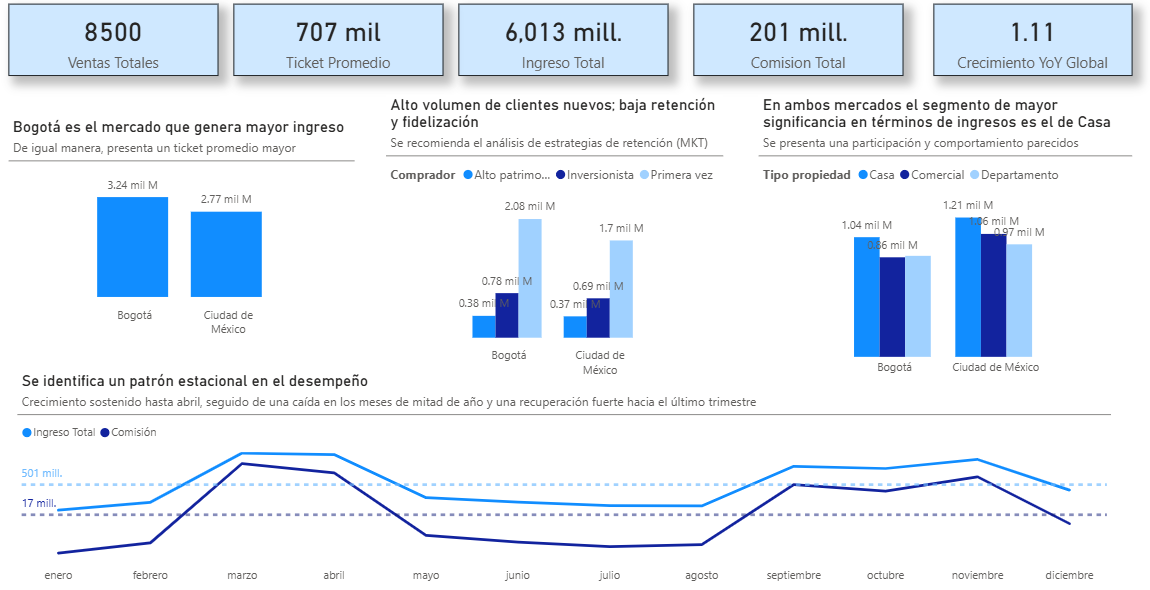

This screenshot's page, from the dashboard's own definition file:
{"tool":"powerbi","page":{"name":"Overview Ejecutivo","canvas":[1280,720],"ordinal":0},"visuals":[{"type":"card","fields":{"Values":["hecho_ventas_propiedades.Ingreso Total"]},"box":[513.2,75.5,230.5,79.6],"z":0},{"type":"card","fields":{"Values":["hecho_ventas_propiedades.Cantidad de Ventas"]},"box":[19.2,75.5,230.5,79.6],"z":1000},{"type":"card","fields":{"Values":["hecho_ventas_propiedades.Ticket Promedio"]},"box":[266.2,75.5,230.5,79.6],"z":2000},{"type":"card","fields":{"Values":["hecho_ventas_propiedades.Comision Total"]},"box":[771.2,75.5,230.5,79.6],"z":3000},{"type":"lineChart","title":"Se identifica un patrón estacional en el desempeño","fields":{"Y":["hecho_ventas_propiedades.Ingreso Total"],"Category":["dim_fecha.Date.Variación.Jerarquía de fechas.Mes"],"Y2":["Sum(hecho_ventas_propiedades.monto_comision)"]},"box":[28.8,478.9,1200.7,241.5],"z":4000},{"type":"clusteredColumnChart","title":"En ambos mercados el segmento de mayor significancia en términos de ingresos es el de Casa","fields":{"Category":["dim_propiedades.ciudad"],"Y":["hecho_ventas_propiedades.Ingreso Total"],"Series":["dim_propiedades.tipo_propiedad"]},"box":[842.5,175.6,410.3,317],"z":5000},{"type":"slicer","fields":{"Values":["dim_fecha.Año"]},"box":[872.7,1.4,101.5,65.9],"z":6000},{"type":"card","fields":{"Values":["hecho_ventas_propiedades.Crecimiento YoY Global"]},"box":[1034.7,75.5,218.2,79.6],"z":7000},{"type":"clusteredColumnChart","title":"Alto volumen de clientes nuevos; baja retención y fidelización","fields":{"Y":["hecho_ventas_propiedades.Ingreso Total"],"Category":["dim_clientes.ciudad"],"Series":["dim_clientes.segmento_comprador"]},"box":[433.6,175.6,370.5,317],"z":8000},{"type":"clusteredColumnChart","title":"Bogotá es el mercado que genera mayor ingreso","fields":{"Y":["hecho_ventas_propiedades.Ingreso Total"],"Category":["dim_clientes.ciudad"]},"box":[19.2,200.3,380.1,247],"z":9000},{"type":"textbox","box":[38.4,9.6,824.7,49.4],"z":10000},{"type":"slicer","fields":{"Values":["dim_clientes.Ciudad"]},"box":[986.6,1.4,141.3,65.9],"z":11000},{"type":"slicer","fields":{"Values":["dim_propiedades.Tipo propiedad"]},"box":[1138.9,1.4,141.3,65.9],"z":12000}]}

Visuals, with their boxes on the page's 1280x720 design canvas (x1, y1, x2, y2). These are canvas units, not pixel positions in the 1150x590 screenshot, which may show the page scaled, cropped or inside an application window:
card - hecho_ventas_propiedades.Ingreso Total: box(513, 76, 744, 155)
card - hecho_ventas_propiedades.Cantidad de Ventas: box(19, 76, 250, 155)
card - hecho_ventas_propiedades.Ticket Promedio: box(266, 76, 497, 155)
card - hecho_ventas_propiedades.Comision Total: box(771, 76, 1002, 155)
"Se identifica un patrón estacional en el desempeño" lineChart: box(29, 479, 1230, 720)
"En ambos mercados el segmento de mayor significancia en términos de ingresos es el de Casa" clusteredColumnChart: box(842, 176, 1253, 493)
slicer - dim_fecha.Año: box(873, 1, 974, 67)
card - hecho_ventas_propiedades.Crecimiento YoY Global: box(1035, 76, 1253, 155)
"Alto volumen de clientes nuevos; baja retención y fidelización" clusteredColumnChart: box(434, 176, 804, 493)
"Bogotá es el mercado que genera mayor ingreso" clusteredColumnChart: box(19, 200, 399, 447)
textbox: box(38, 10, 863, 59)
slicer - dim_clientes.Ciudad: box(987, 1, 1128, 67)
slicer - dim_propiedades.Tipo propiedad: box(1139, 1, 1280, 67)
